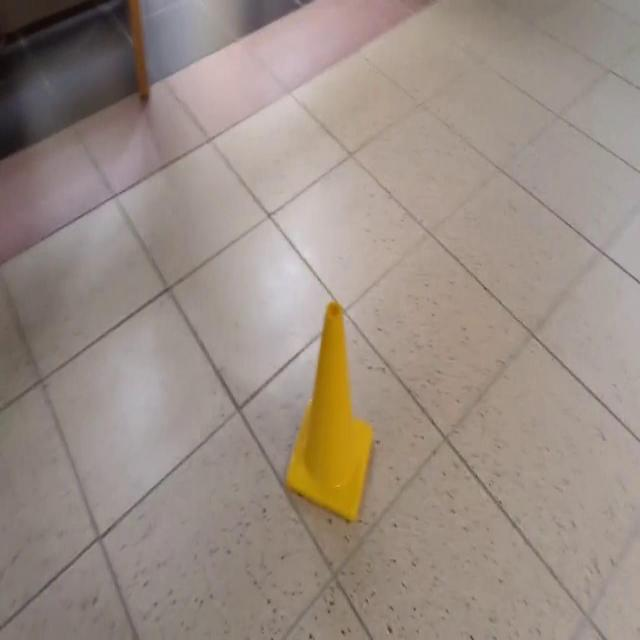frc_cone: (284, 296, 376, 529)
